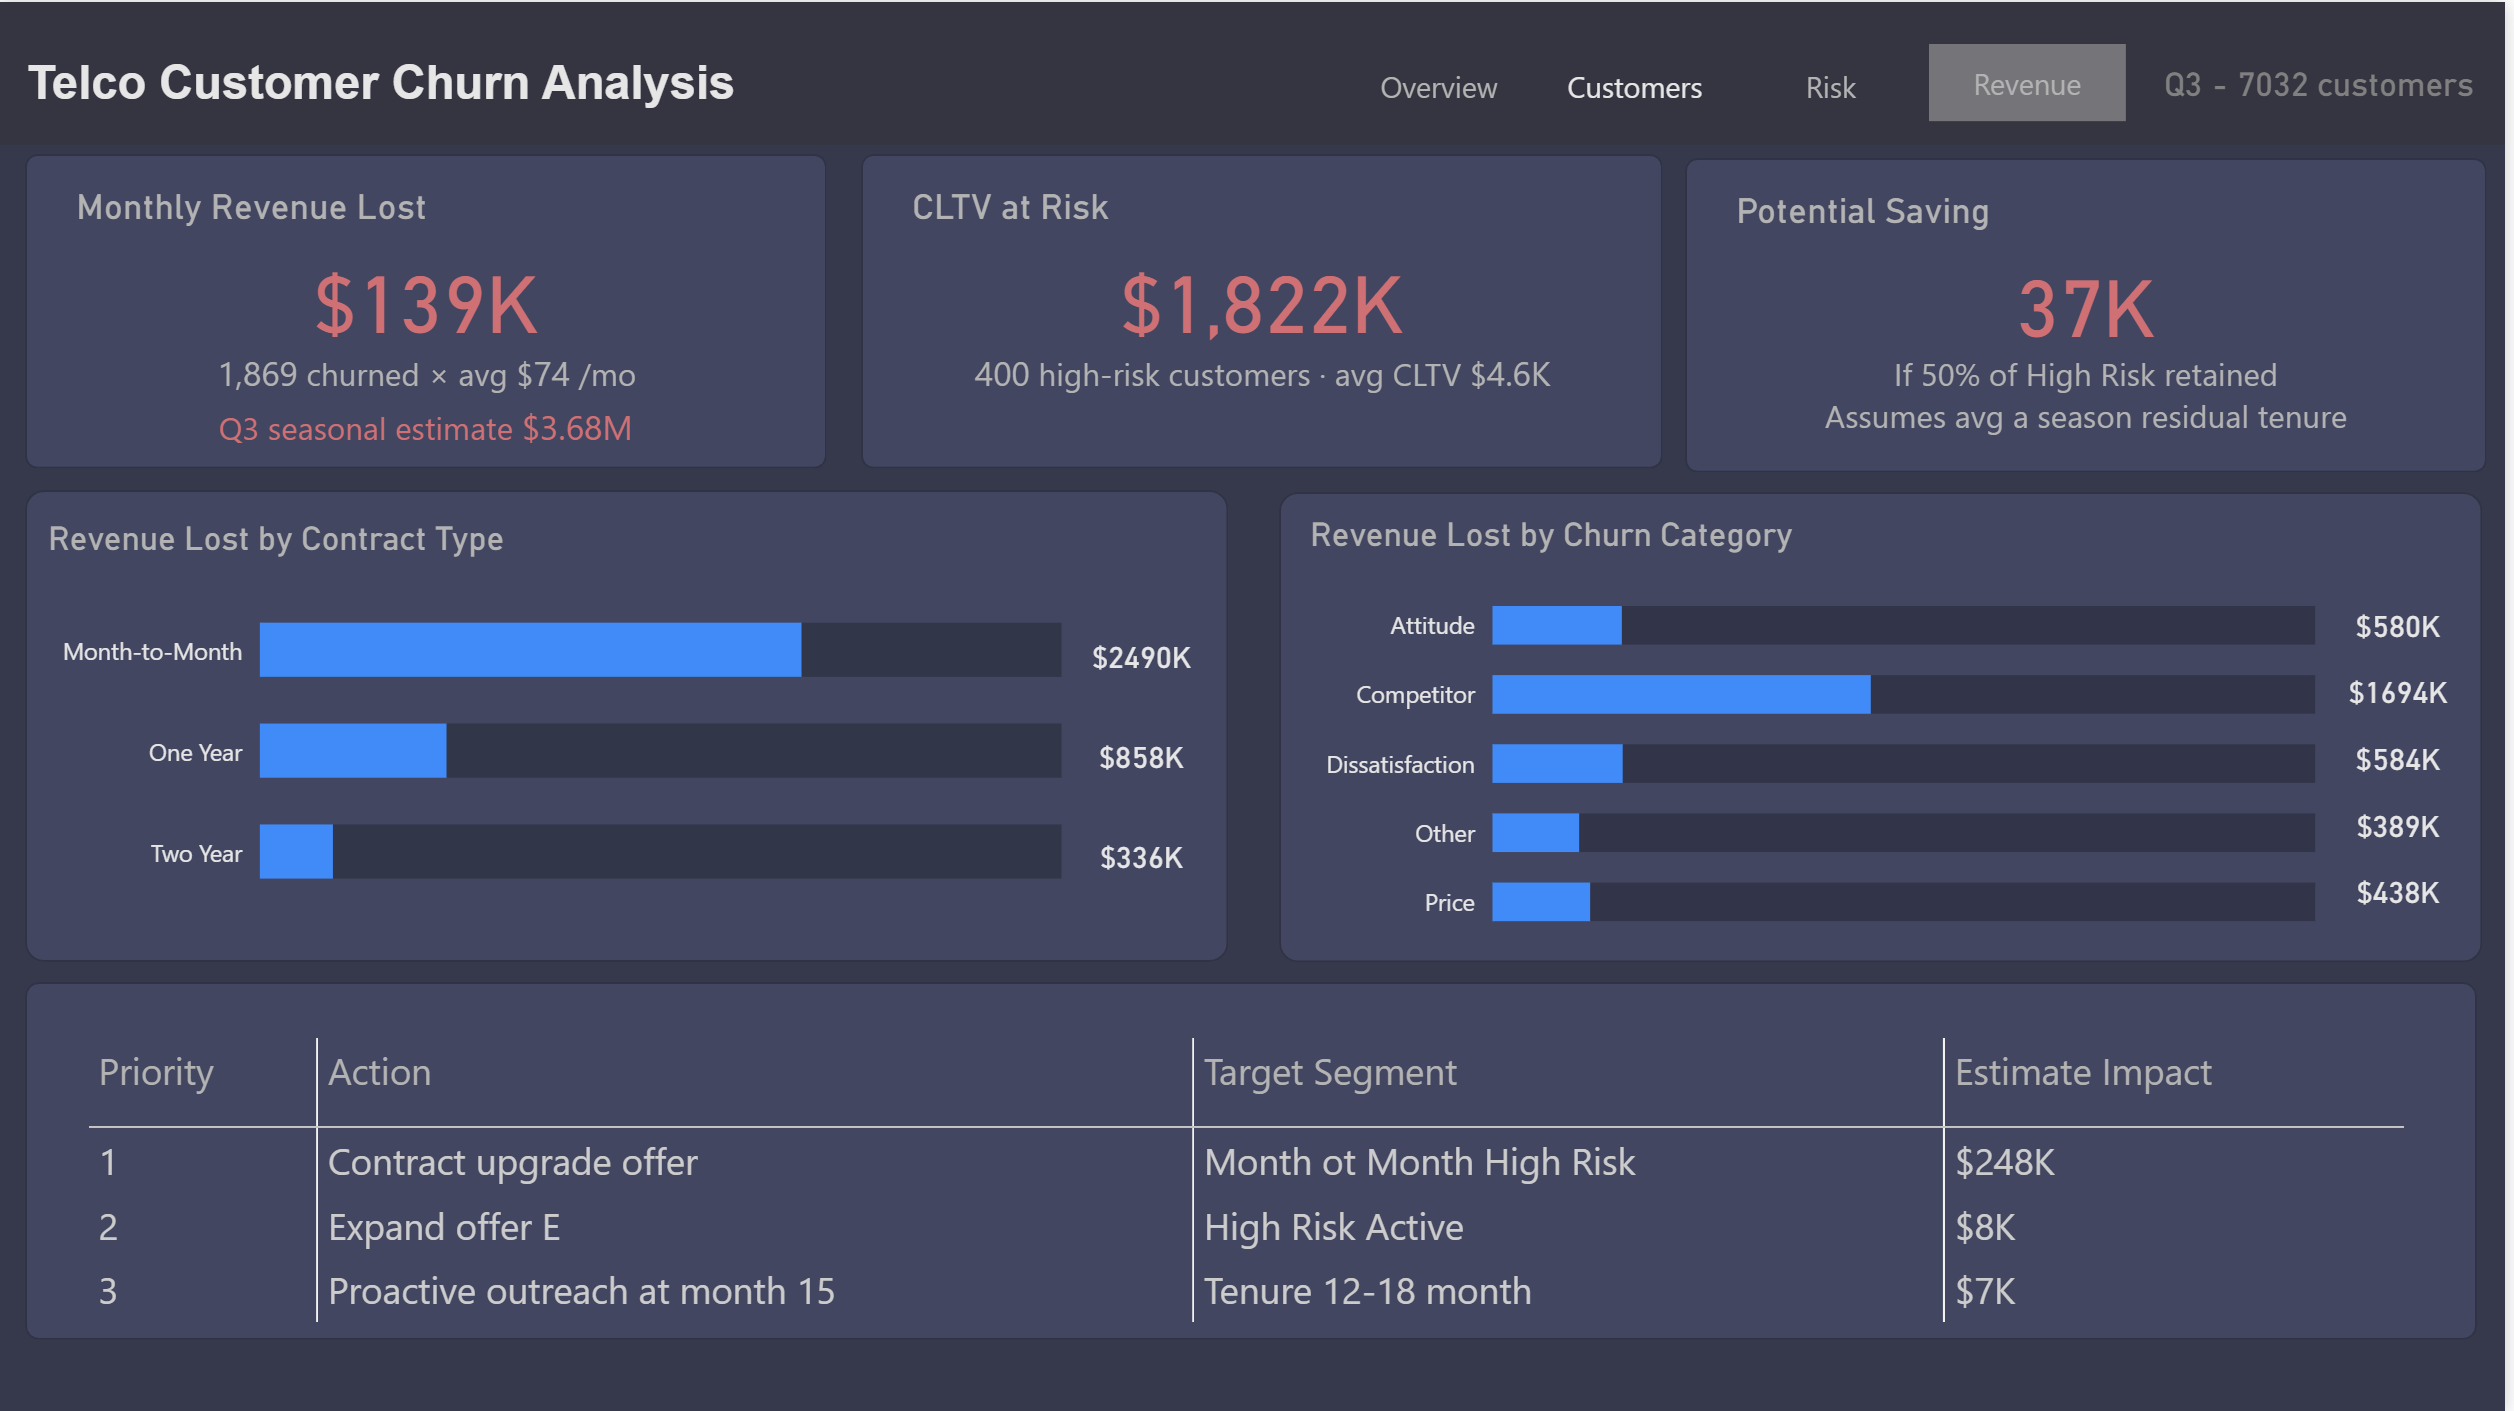

The page's visual inventory and layout, read from the dashboard file:
{"tool":"powerbi","page":{"name":"Revenue","canvas":[1280,720],"ordinal":3},"visuals":[{"type":"shape","box":[0,0,1280,72.9],"z":0,"group":"g3"},{"type":"group","id":"g1","title":"Monthly Revenue","box":[14.4,77.6,410,171.2],"z":0},{"type":"shape","box":[14.4,77.6,409.1,160.6],"z":0,"group":"g1"},{"type":"shape","box":[441.2,77.6,409.1,160.6],"z":0,"group":"g2"},{"type":"shape","box":[861.5,79.1,409.1,160.6],"z":0,"group":"g4"},{"type":"shape","box":[14.6,249,614,240.8],"z":0,"group":"g6"},{"type":"shape","box":[653.8,249.7,614,240],"z":0,"group":"g5"},{"type":"textbox","box":[10.3,22,376.4,51.3],"z":1000,"group":"g3"},{"type":"group","id":"g2","title":"High Risk Segment","box":[441.2,77.6,410,160.6],"z":1000},{"type":"enlightenDataStoryDDFB78A6143E42CFAFBC50CCF18D978D","fields":{"measure":["_calculation.High Risk Customer Count","_calculation.Avg Q3 CLTV"]},"box":[441.2,172.8,410,36.5],"z":1000,"group":"g2"},{"type":"textbox","box":[861.5,173.5,409.4,65.4],"z":1000,"group":"g4"},{"type":"enlightenDataStoryDDFB78A6143E42CFAFBC50CCF18D978D","fields":{"measure":["_calculation.Total Revenue Lost"]},"box":[14.4,199.7,409.1,49],"z":1000,"group":"g1"},{"type":"barChart","title":"Revenue Lost by Churn Category","fields":{"Y":["_calculation.Churn Category Revenue Lost","_calculation.1"],"Category":["telco telco_customer_churn_status.Churn Category"]},"box":[649.6,252.1,552.8,237.5],"z":1000,"group":"g5"},{"type":"barChart","title":"Revenue Lost by Contract Type","fields":{"Y":["_calculation.Churn Contract Revenue Lost %","_calculation.1"],"Category":["telco telco_customer_churn_services.Contract"]},"box":[6.1,254.1,557,222],"z":1000,"group":"g6"},{"type":"group","id":"g3","title":"Header","box":[0,0,1280,73.2],"z":2000},{"type":"card","fields":{"Values":["_calculation.Sub Header"]},"box":[1098.6,18.6,171.4,48.6],"z":2000,"group":"g3"},{"type":"card","title":"CLTV at Risk","fields":{"Values":["_calculation.High Risk CLTV Revenue"]},"box":[457.4,93.9,371.3,97.1],"z":2000,"group":"g2"},{"type":"card","title":"Potential Saving","fields":{"Values":["_calculation.Potential Saving"]},"box":[877.7,95.4,371.3,97.1],"z":2000,"group":"g4"},{"type":"enlightenDataStoryDDFB78A6143E42CFAFBC50CCF18D978D","fields":{"measure":["_calculation.Churned Count","_calculation.Avg Monthly Charge Churned"]},"box":[14.4,172.8,410,36.5],"z":2000,"group":"g1"},{"type":"card","fields":{"Values":["_calculation.Churn Category % Side Chart"]},"box":[1184.3,282.7,80.6,206.9],"z":2000,"group":"g5"},{"type":"card","fields":{"Values":["_calculation.Churn Contract Revenue Lost % Side Chart"]},"box":[543.6,287.4,80.1,195.4],"z":2000,"group":"g6"},{"type":"actionButton","title":"Button revenue","box":[985.5,21.7,100.4,39.4],"z":2500,"group":"g7"},{"type":"actionButton","title":"Button risk","box":[885.5,22.6,100,40],"z":3000,"group":"g7"},{"type":"group","id":"g4","title":"Potential Saving","box":[861.5,79.1,409.4,160.6],"z":3000},{"type":"card","title":"Monthly Revenue Lost","fields":{"Values":["_calculation.Monthly Revenue Lost"]},"box":[30.6,93.9,371.3,97.1],"z":3000,"group":"g1"},{"type":"actionButton","title":"Button overview","box":[685.5,22.6,100,40],"z":4000,"group":"g7"},{"type":"group","id":"g5","title":"Churn Categories","box":[649.6,249.7,617.9,239],"z":4000},{"type":"actionButton","title":"Button customer","box":[785.5,22.6,100,40],"z":5000,"group":"g7"},{"type":"group","id":"g6","title":"Churn Categories","box":[6.1,249,622.4,240.8],"z":5000},{"type":"group","id":"g7","title":"Buttons","box":[685.5,21.7,400.4,40.7],"z":5001,"group":"g3"},{"type":"shape","box":[14.3,500,1251,182.7],"z":6000,"group":"g8"},{"type":"tableEx","fields":{"Values":["Suggestions.Priority","Suggestions.Action","Suggestions.Target Segment","Suggestions.Est. Impact"]},"box":[40.5,523.5,1202.6,159.2],"z":7000,"group":"g8"},{"type":"group","id":"g8","title":"Group 1","box":[14.3,500,1251,182.7],"z":7001}]}

Visuals, with their boxes in screenshot pixels (x1, y1, x2, y2), scaled from the page's 1280x720 canvas onto the 2514x1411 screenshot:
shape: left=0, top=0, right=2513, bottom=143
"Monthly Revenue" group: left=28, top=152, right=834, bottom=488
shape: left=28, top=152, right=832, bottom=467
shape: left=867, top=152, right=1670, bottom=467
shape: left=1692, top=155, right=2496, bottom=470
shape: left=29, top=488, right=1235, bottom=960
shape: left=1284, top=489, right=2490, bottom=960
textbox: left=20, top=43, right=760, bottom=144
"High Risk Segment" group: left=867, top=152, right=1672, bottom=467
enlightenDataStoryDDFB78A6143E42CFAFBC50CCF18D978D - _calculation.High Risk Customer Count x _calculation.Avg Q3 CLTV: left=867, top=339, right=1672, bottom=410
textbox: left=1692, top=340, right=2496, bottom=468
enlightenDataStoryDDFB78A6143E42CFAFBC50CCF18D978D - _calculation.Total Revenue Lost: left=28, top=391, right=832, bottom=487
"Revenue Lost by Churn Category" barChart: left=1276, top=494, right=2362, bottom=959
"Revenue Lost by Contract Type" barChart: left=12, top=498, right=1106, bottom=933
"Header" group: left=0, top=0, right=2513, bottom=143
card - _calculation.Sub Header: left=2158, top=36, right=2494, bottom=132
"CLTV at Risk" card: left=898, top=184, right=1628, bottom=374
"Potential Saving" card: left=1724, top=187, right=2453, bottom=377
enlightenDataStoryDDFB78A6143E42CFAFBC50CCF18D978D - _calculation.Churned Count x _calculation.Avg Monthly Charge Churned: left=28, top=339, right=834, bottom=410
card - _calculation.Churn Category % Side Chart: left=2326, top=554, right=2484, bottom=959
card - _calculation.Churn Contract Revenue Lost % Side Chart: left=1068, top=563, right=1225, bottom=946
"Button revenue" actionButton: left=1936, top=43, right=2133, bottom=120
"Button risk" actionButton: left=1739, top=44, right=1936, bottom=123
"Potential Saving" group: left=1692, top=155, right=2496, bottom=470
"Monthly Revenue Lost" card: left=60, top=184, right=789, bottom=374
"Button overview" actionButton: left=1346, top=44, right=1543, bottom=123
"Churn Categories" group: left=1276, top=489, right=2489, bottom=958
"Button customer" actionButton: left=1543, top=44, right=1739, bottom=123
"Churn Categories" group: left=12, top=488, right=1234, bottom=960
"Buttons" group: left=1346, top=43, right=2133, bottom=122
shape: left=28, top=980, right=2485, bottom=1338
tableEx - Suggestions.Priority x Suggestions.Action: left=80, top=1026, right=2442, bottom=1338
"Group 1" group: left=28, top=980, right=2485, bottom=1338
